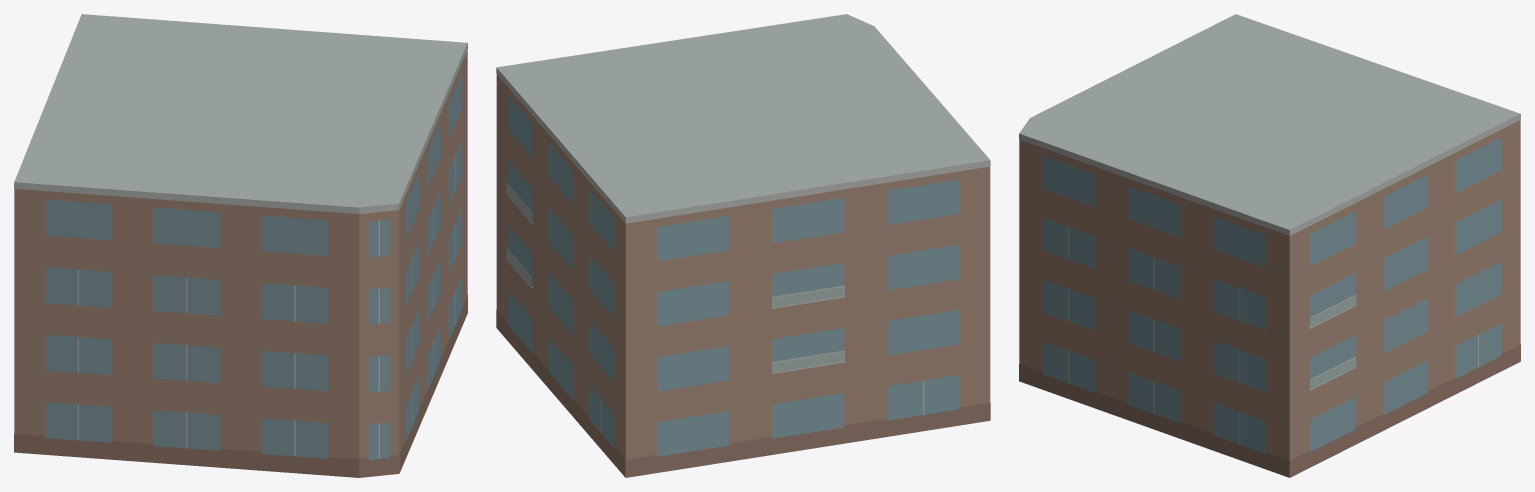
The model's file is survey-upis-32708682.glb.
The picture shows the model from 3 angles, left to right: view 1: azimuth 30°, elevation 25°; view 2: azimuth 150°, elevation 25°; view 3: azimuth 270°, elevation 25°; orthographic projection. The views are drawn at different scales.
Visible parts, largest first — view 1: survey-upis-32708682.tmp; view 2: survey-upis-32708682.tmp; view 3: survey-upis-32708682.tmp.
Boxes of the visible parts, bbox=[...] form: survey-upis-32708682.tmp: bbox=[14, 14, 467, 477]; survey-upis-32708682.tmp: bbox=[496, 14, 990, 477]; survey-upis-32708682.tmp: bbox=[1019, 14, 1520, 477].
Size of the model in its own units: 18.9 by 10.1 by 18.54.
